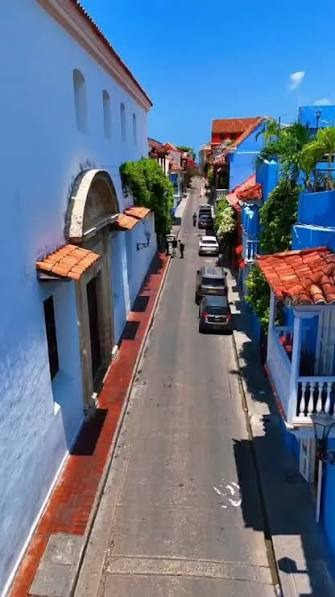car: (197, 277, 231, 332)
